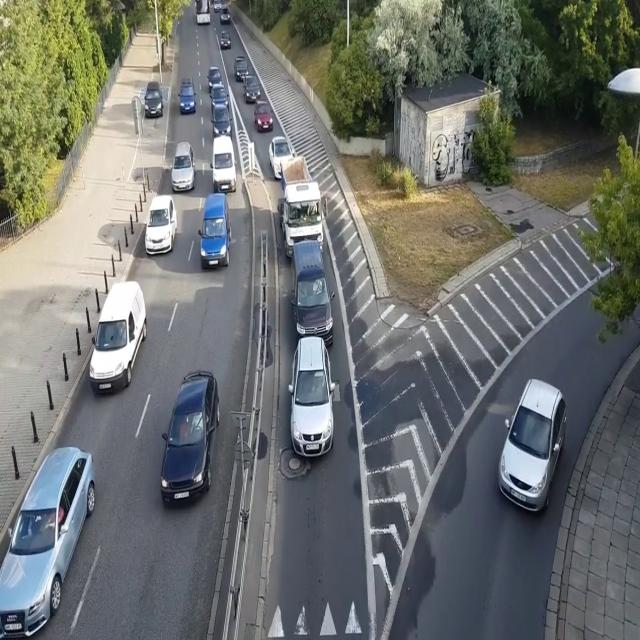bus: (195, 0, 212, 26)
car: (0, 446, 96, 636), (496, 377, 570, 515), (160, 369, 220, 511), (288, 337, 336, 460), (144, 194, 178, 252), (170, 138, 197, 190), (269, 136, 296, 182), (210, 103, 234, 139), (144, 79, 165, 120), (254, 99, 274, 132), (242, 73, 261, 105), (209, 86, 230, 111), (233, 54, 251, 83), (207, 66, 223, 89), (219, 30, 231, 50), (220, 6, 231, 24), (213, 0, 223, 12)
truck: (278, 157, 326, 256)
van: (89, 279, 148, 393), (290, 239, 336, 349), (197, 192, 232, 268), (210, 134, 236, 194), (178, 77, 197, 113)
